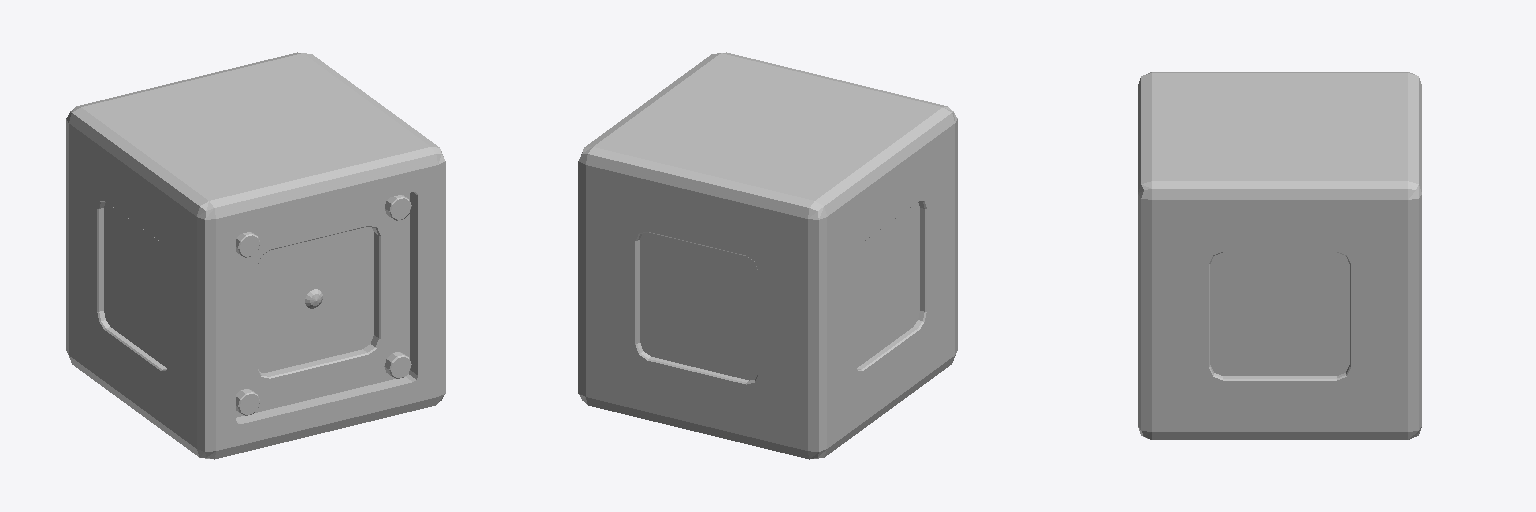
Rendered from cpz_obj_blocks_1b.obj.
3 views of the same model, side by side, from view 1: azimuth 30°, elevation 25°; view 2: azimuth 150°, elevation 25°; view 3: azimuth 270°, elevation 25° (orthographic).
Visible parts, largest first — view 1: cpz_metal_st1_box01_cmn_dsn, cpz_etc_tn1_motionlight01; view 2: cpz_metal_st1_box01_cmn_dsn, cpz_etc_tn1_motionlight01; view 3: cpz_metal_st1_box01_cmn_dsn, cpz_etc_tn1_motionlight01.
Boxes of the visible parts, x1,y1,x2,y2 form: cpz_metal_st1_box01_cmn_dsn: [66, 52, 445, 459]; cpz_etc_tn1_motionlight01: [104, 202, 373, 372]; cpz_metal_st1_box01_cmn_dsn: [578, 52, 957, 459]; cpz_etc_tn1_motionlight01: [640, 202, 919, 380]; cpz_metal_st1_box01_cmn_dsn: [1138, 72, 1421, 439]; cpz_etc_tn1_motionlight01: [1210, 252, 1349, 375].
Bounding box in the file's own units: 36 × 36 × 36.